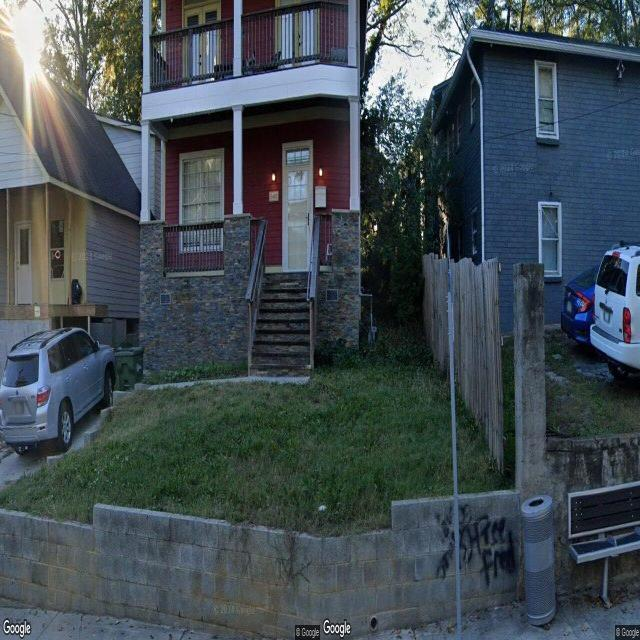seating: (567, 478, 640, 610)
trash_can: (520, 494, 556, 624)
